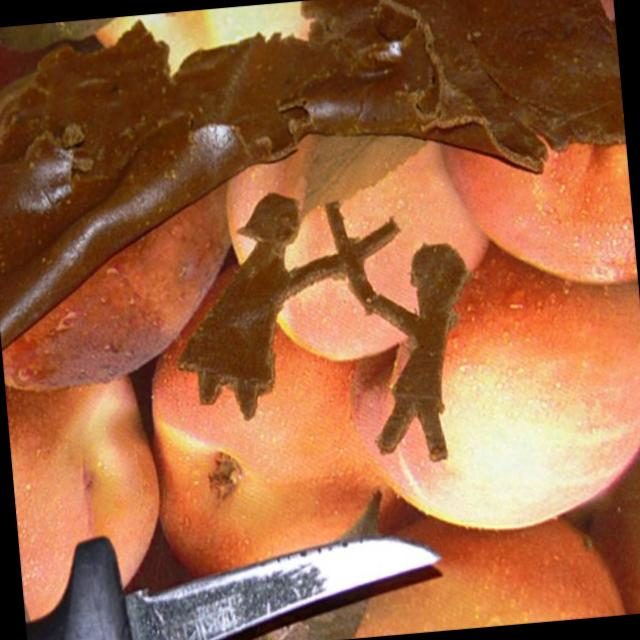Knife: (25, 537, 440, 640)
